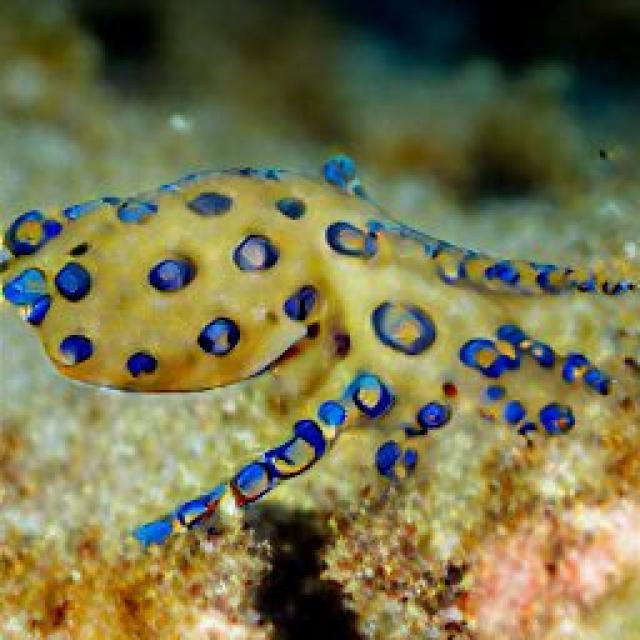blue_ringed_octopus: (0, 148, 638, 548)
